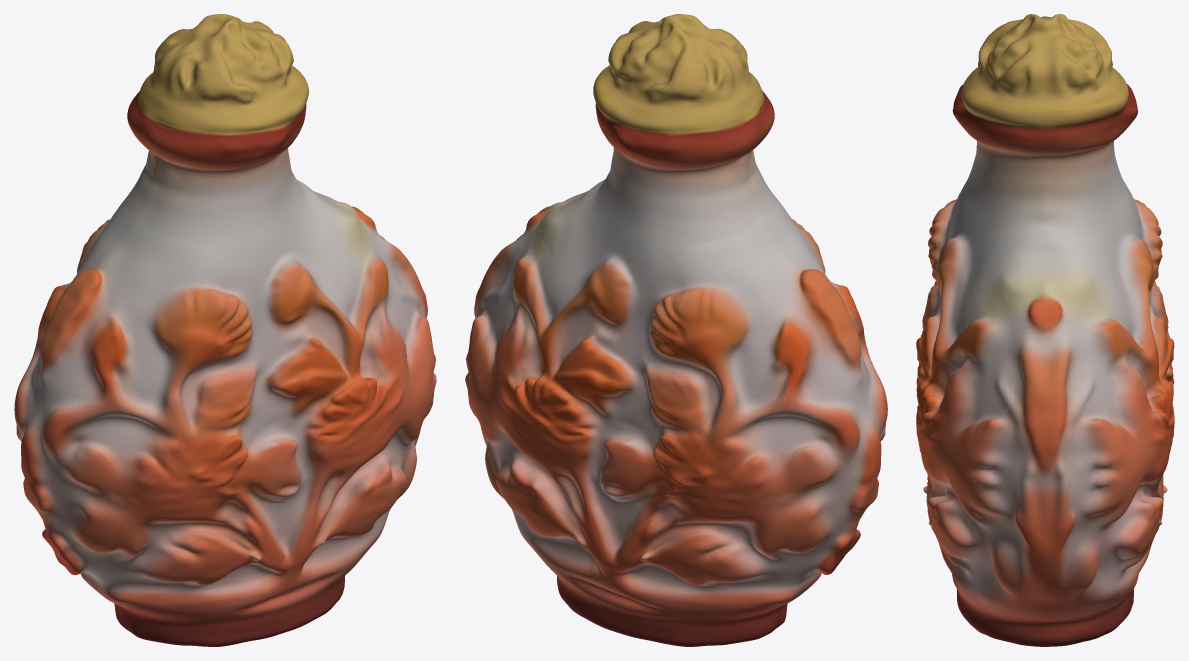
The model's file is 粉彩百蝶 描金云蝠纹海棠形包袱瓶 .glb.
3 views of the same model, side by side, from view 1: azimuth 30°, elevation 25°; view 2: azimuth 150°, elevation 25°; view 3: azimuth 270°, elevation 25° (orthographic).
Visible parts, largest first — view 1: tripo_node_77c79ded; view 2: tripo_node_77c79ded; view 3: tripo_node_77c79ded.
Boxes of the visible parts, bbox=[...] form: tripo_node_77c79ded: bbox=[14, 14, 436, 646]; tripo_node_77c79ded: bbox=[465, 14, 887, 646]; tripo_node_77c79ded: bbox=[916, 14, 1174, 646].
Bounding box in the file's own units: 69.14 × 97.81 × 39.04.
1 material, 1 textured.
